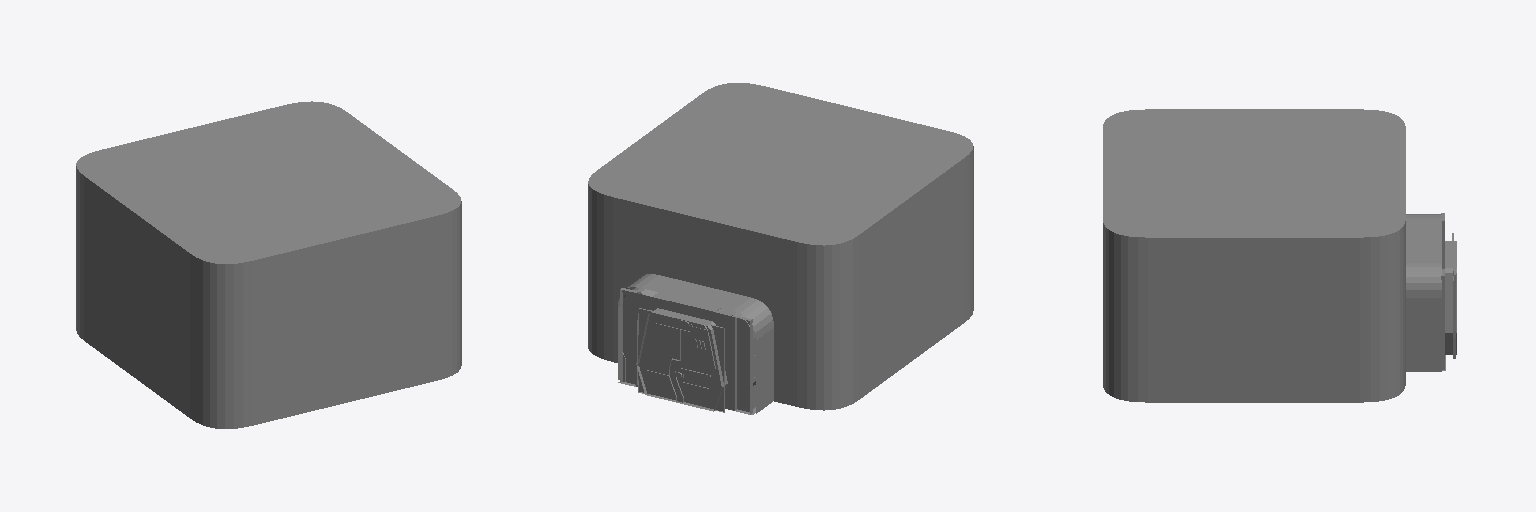
Rendered from holochamber.obj.
3 views of the same model, side by side, from view 1: azimuth 30°, elevation 25°; view 2: azimuth 150°, elevation 25°; view 3: azimuth 270°, elevation 25° (orthographic).
Visible parts, largest first — view 1: HoloRoom; view 2: HoloRoom; view 3: HoloRoom.
Part boxes in pixels (bbox=[...]): HoloRoom: bbox=[76, 101, 461, 428]; HoloRoom: bbox=[588, 83, 973, 414]; HoloRoom: bbox=[1103, 109, 1456, 402].
Bounding box in the file's own units: 6.67 × 4 × 7.79.